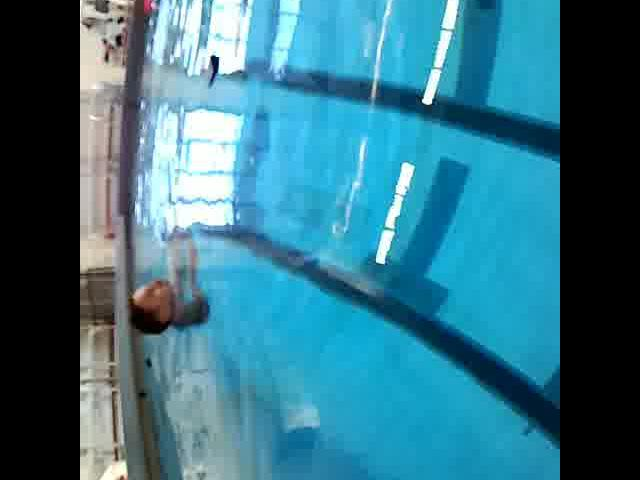CamMount: (202, 49, 225, 95)
